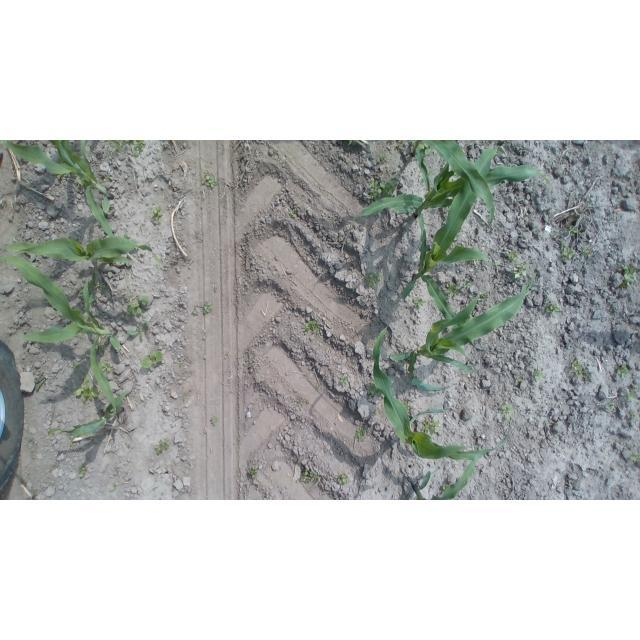Maize: (401, 145, 508, 350), (0, 255, 120, 418), (373, 324, 511, 462), (390, 272, 534, 395), (351, 163, 552, 220), (0, 141, 116, 239), (411, 140, 495, 230), (0, 235, 160, 268), (47, 388, 131, 447), (413, 457, 479, 500)
Weeds: (367, 177, 398, 198), (75, 375, 100, 401), (620, 263, 640, 290), (89, 273, 107, 301), (127, 296, 151, 317), (140, 352, 165, 369), (123, 141, 145, 160), (105, 141, 126, 160), (127, 322, 149, 340), (570, 360, 589, 380), (302, 319, 322, 337), (560, 240, 576, 262), (364, 271, 383, 289), (155, 438, 172, 457), (300, 467, 319, 484), (201, 170, 217, 189), (546, 300, 563, 317), (423, 420, 442, 434), (624, 385, 638, 403), (34, 372, 46, 392), (618, 362, 633, 378), (514, 263, 528, 279), (354, 426, 367, 442), (502, 403, 513, 421), (533, 363, 544, 381), (445, 283, 459, 297), (151, 206, 162, 223), (78, 464, 89, 480), (413, 296, 427, 308), (367, 383, 379, 397), (334, 473, 348, 484), (630, 409, 640, 424), (508, 250, 519, 263), (248, 464, 259, 476), (550, 230, 561, 241), (570, 225, 581, 236), (102, 361, 112, 373), (421, 142, 431, 154), (204, 302, 213, 315), (295, 396, 309, 404), (71, 363, 81, 374), (629, 451, 640, 461), (340, 375, 349, 387), (462, 278, 471, 289), (583, 246, 592, 257), (404, 400, 413, 410), (347, 141, 361, 147), (191, 306, 199, 316), (210, 416, 218, 426), (289, 209, 297, 219), (378, 153, 386, 163), (98, 346, 105, 357), (587, 198, 594, 209), (76, 179, 84, 188), (605, 402, 615, 409), (102, 176, 110, 183), (110, 484, 117, 492), (482, 294, 489, 301), (389, 302, 397, 308), (374, 407, 380, 415), (428, 169, 434, 177), (515, 375, 521, 383), (315, 384, 321, 390), (84, 228, 90, 233), (180, 362, 184, 367), (609, 308, 613, 313), (403, 495, 408, 498), (325, 492, 330, 495), (215, 288, 218, 292), (398, 140, 402, 142), (80, 289, 82, 293)
